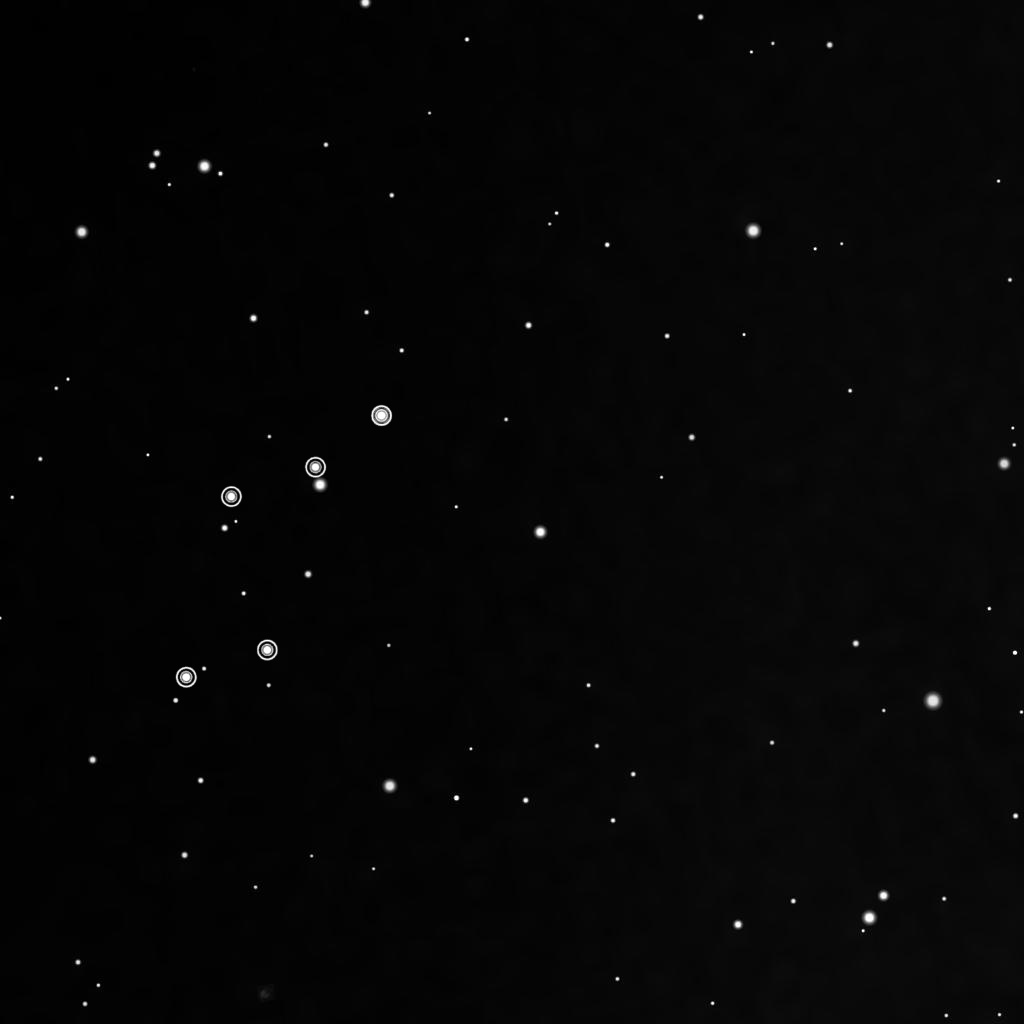lyra: (165, 393, 397, 706)
